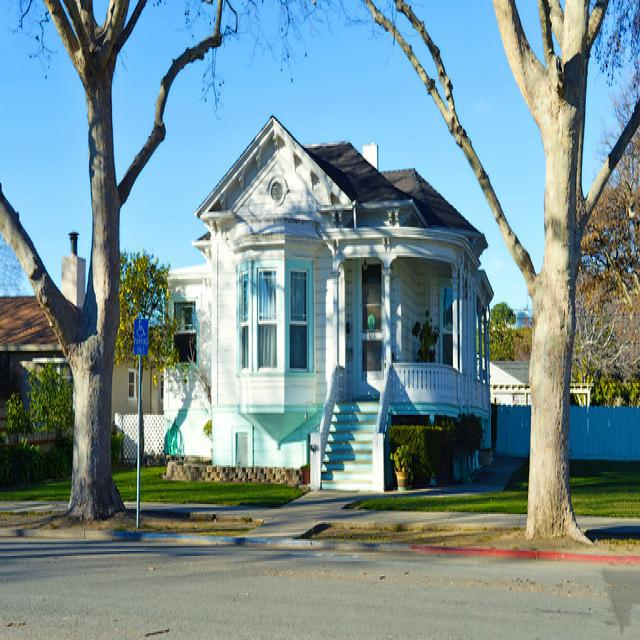building: (134, 118, 494, 500)
